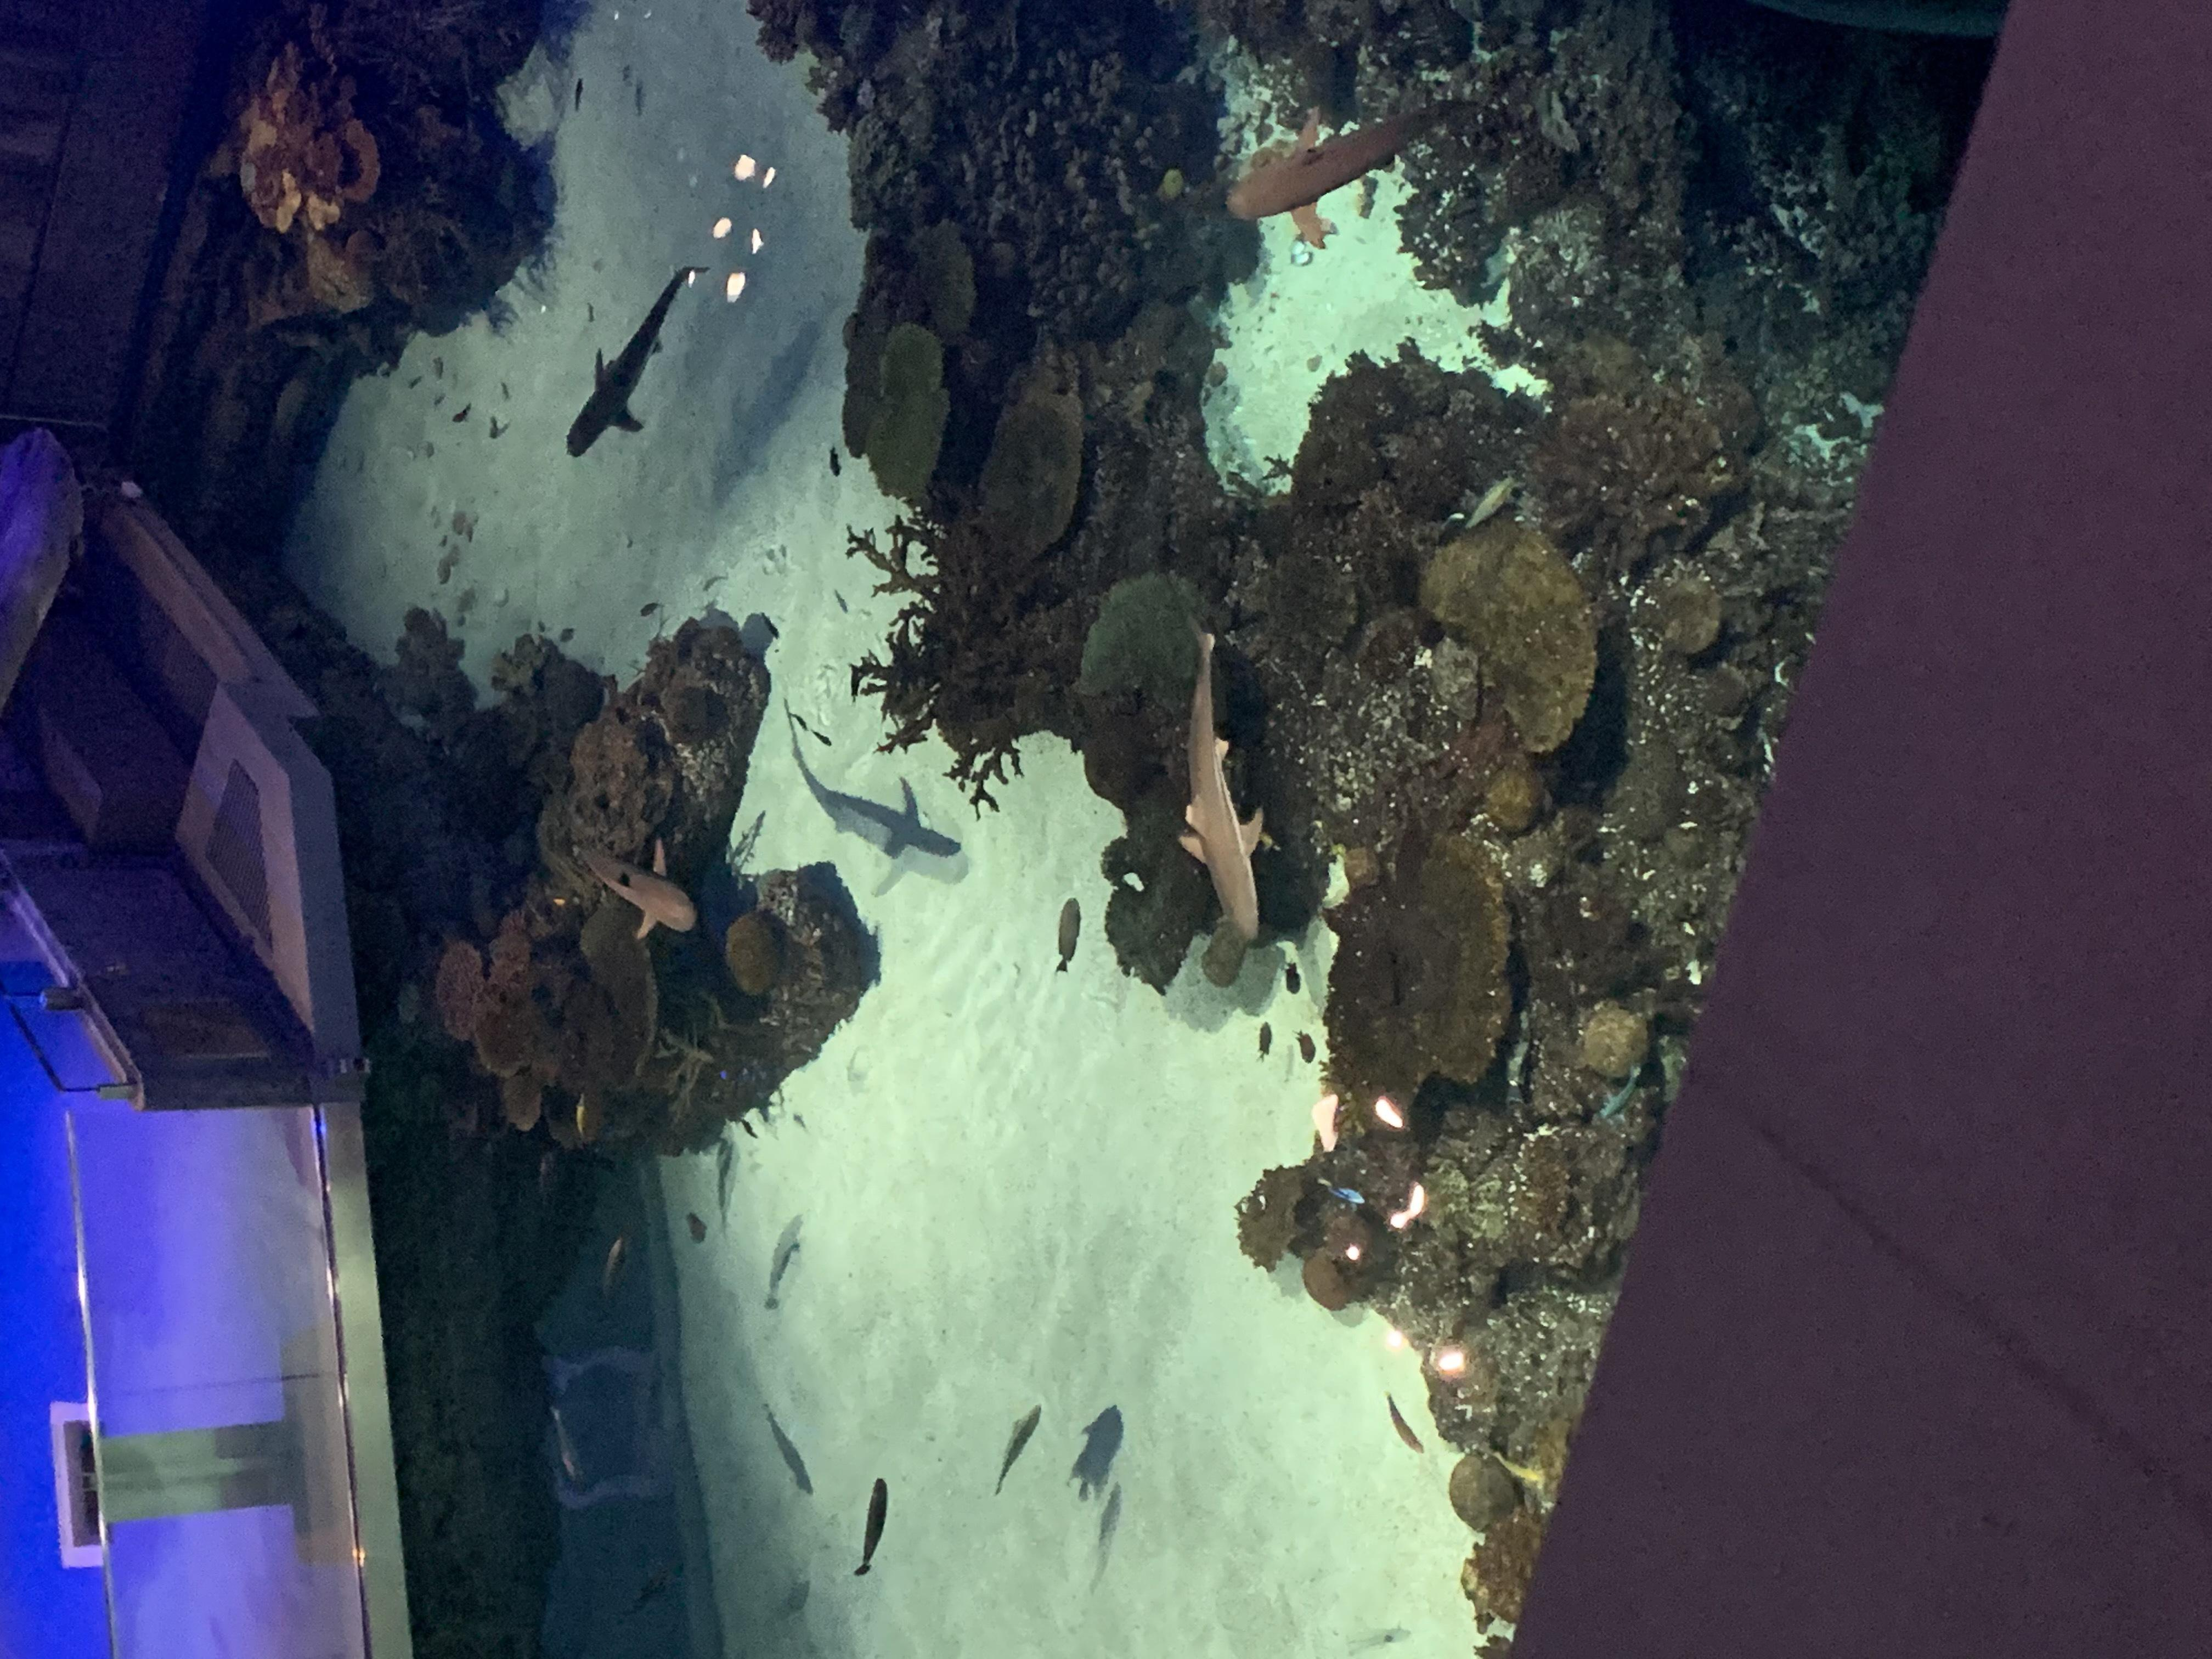fish: (989, 1403, 1047, 1499), (761, 1403, 817, 1495), (853, 1476, 892, 1579), (761, 1220, 803, 1314), (592, 1230, 634, 1317), (1379, 1391, 1430, 1462), (1050, 894, 1087, 981), (712, 1133, 738, 1222), (777, 1574, 812, 1619), (1292, 1028, 1324, 1068), (1280, 960, 1310, 1000), (1252, 1019, 1277, 1066), (758, 608, 784, 643), (686, 1211, 709, 1248), (826, 446, 845, 481), (789, 713, 812, 734), (813, 730, 838, 749), (639, 599, 662, 617)
shark: (1226, 101, 1482, 251), (1167, 601, 1270, 951), (557, 256, 712, 465), (787, 727, 967, 866), (564, 831, 702, 945)
